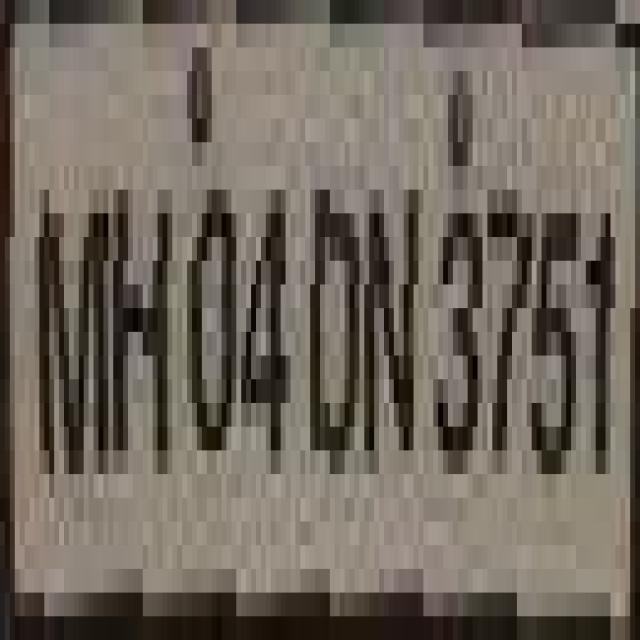license_plate: (5, 0, 601, 640)
